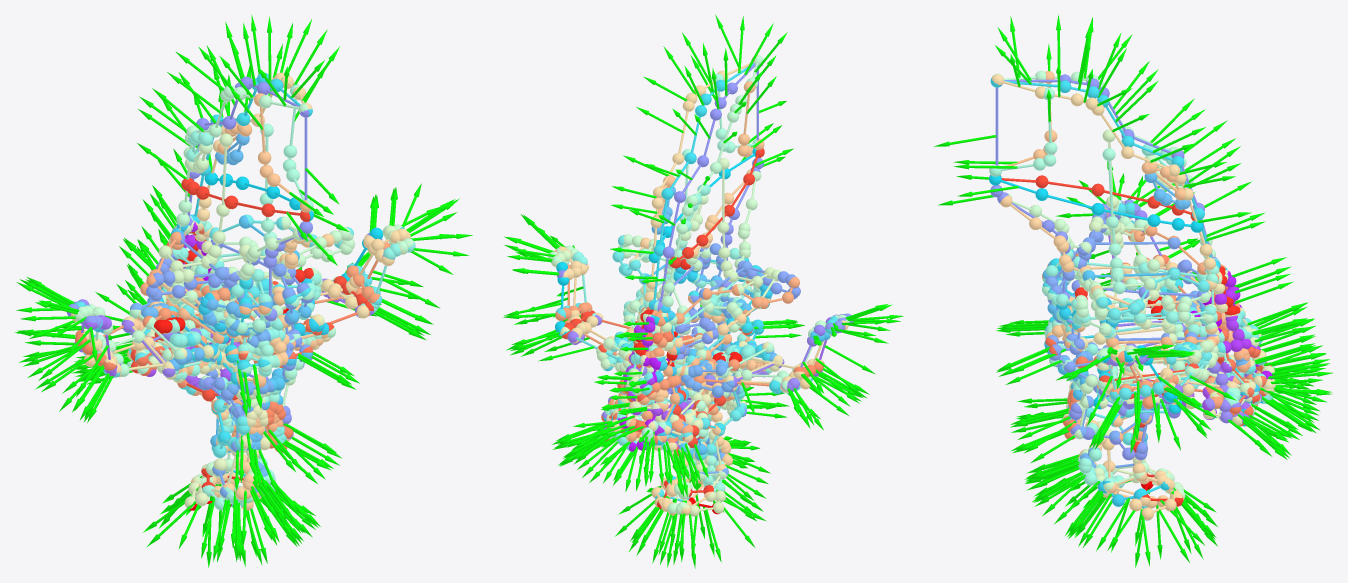
Rendered from robbins_spaceship.gltf.
The picture shows the model from 3 angles, left to right: view 1: azimuth 30°, elevation 25°; view 2: azimuth 150°, elevation 25°; view 3: azimuth 270°, elevation 25°; orthographic projection. The views are drawn at different scales.
Size of the model in its own units: 0.7374 by 0.907 by 0.6187.
